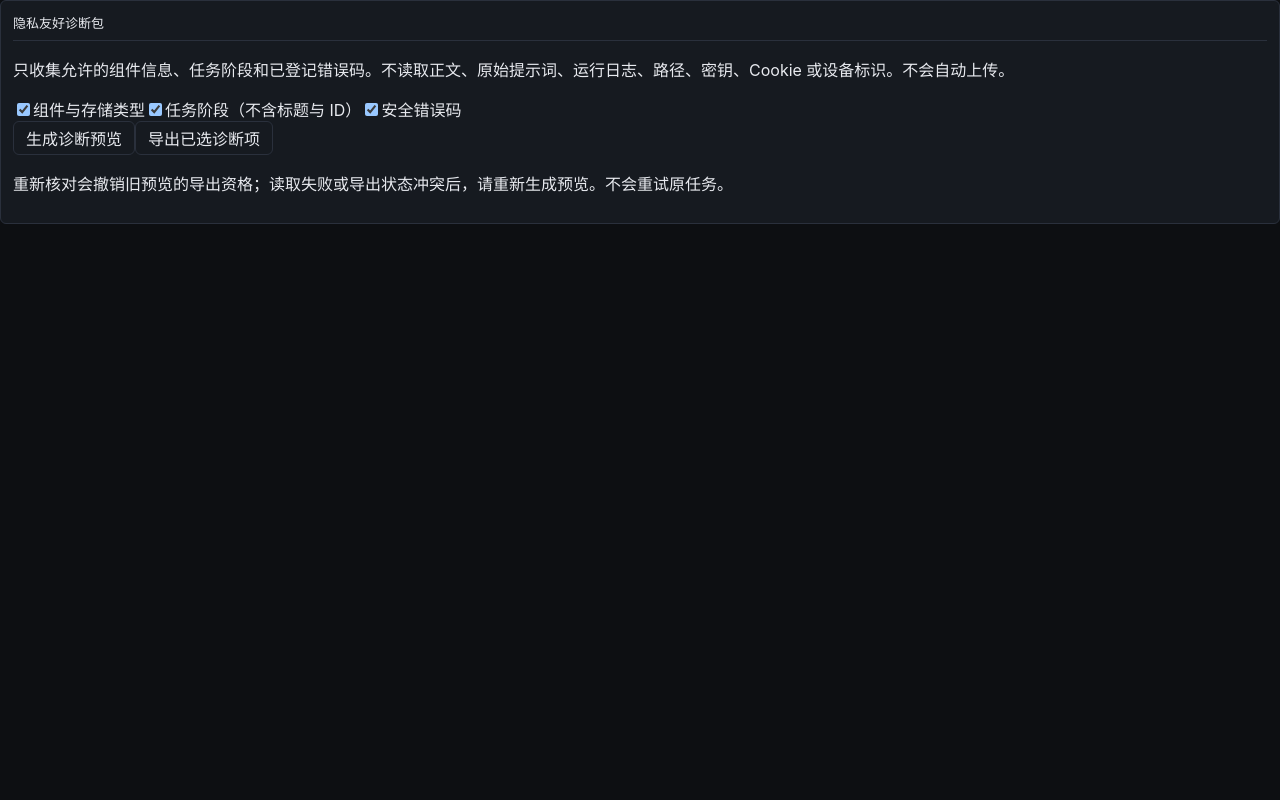
Test: downloads only the original digest-bound export result after explicit selection
Click the button "生成诊断预览".
click(74, 138)  # box [13,121,135,155]
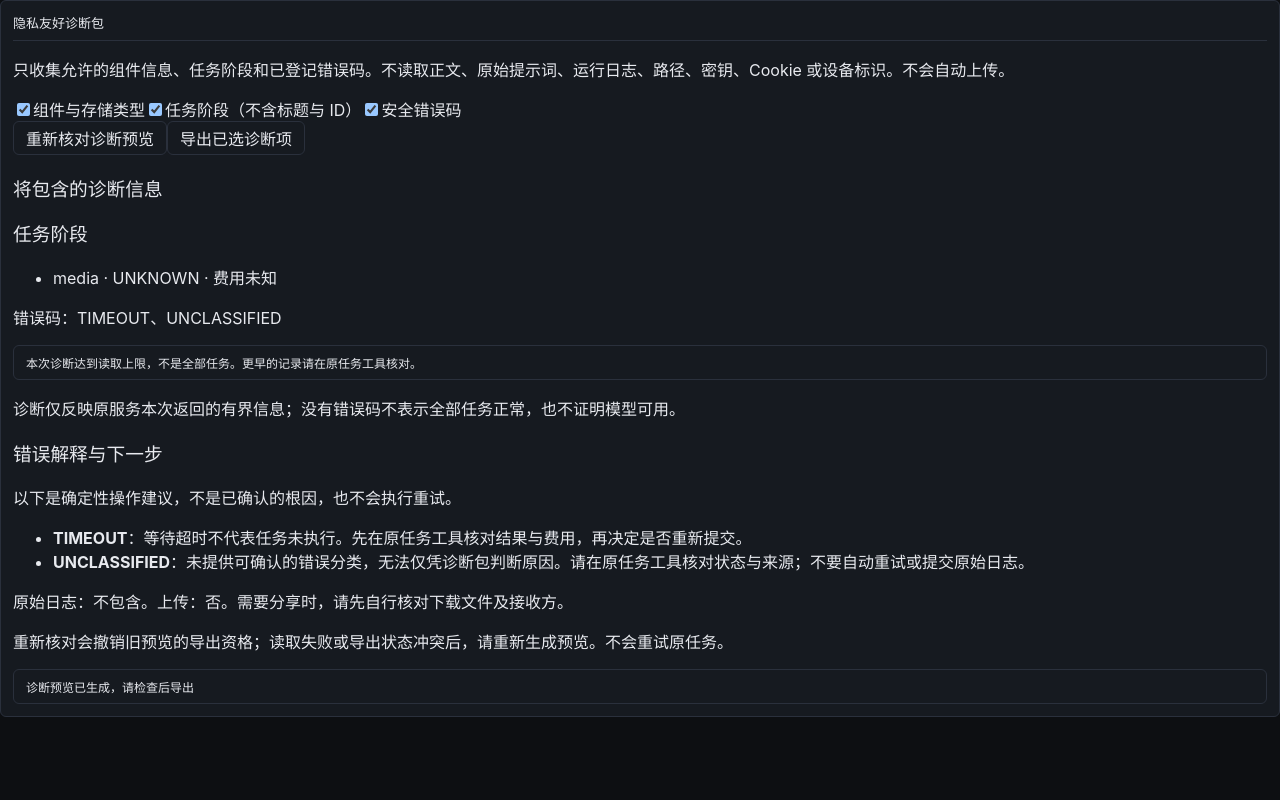
Click the button "导出已选诊断项".
click(236, 138)  # box [167,121,305,155]
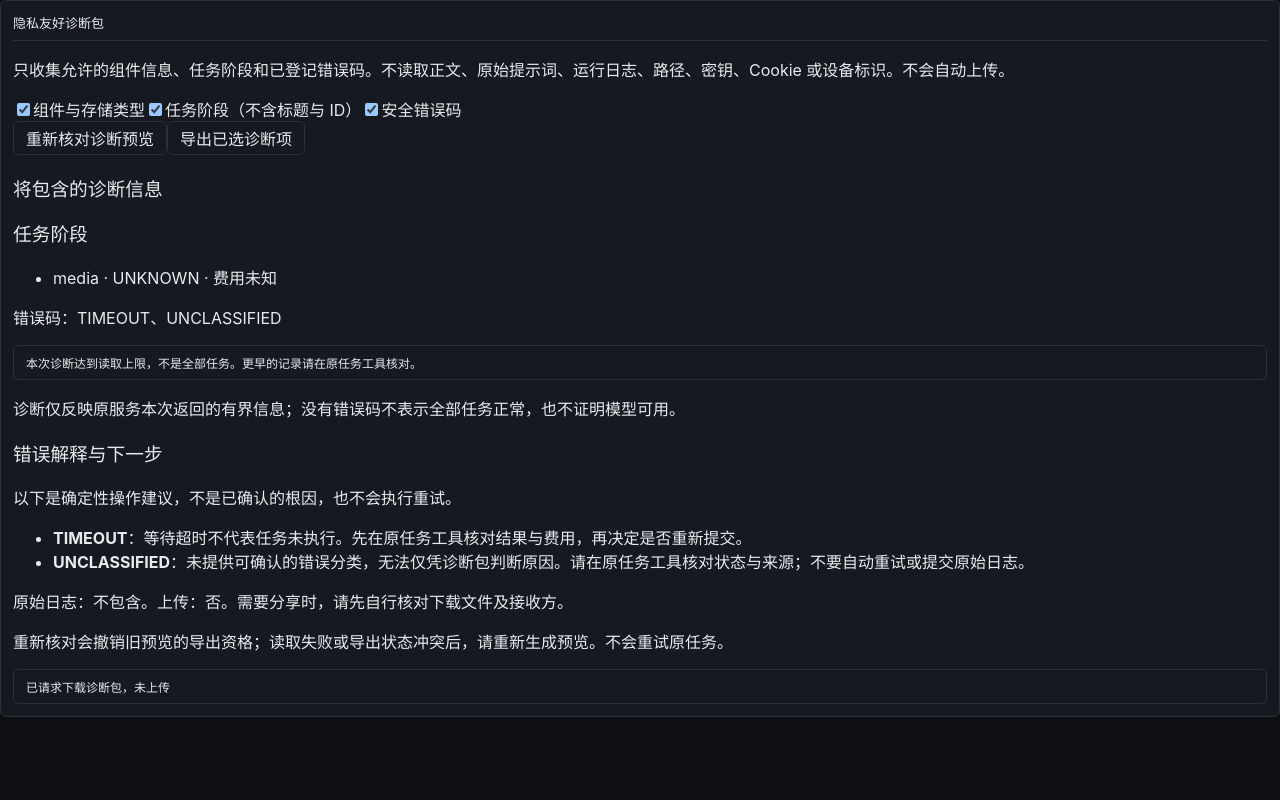
Expected: the text "已请求下载诊断包，未上传" is shown, [13,669,1267,704]
